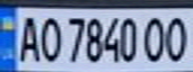0: (118, 14, 142, 63)
4: (103, 14, 124, 63)
7: (63, 12, 84, 63)
8: (81, 14, 106, 63)
A: (12, 11, 42, 63)
O: (163, 12, 193, 63), (139, 12, 169, 63), (36, 12, 63, 63)
